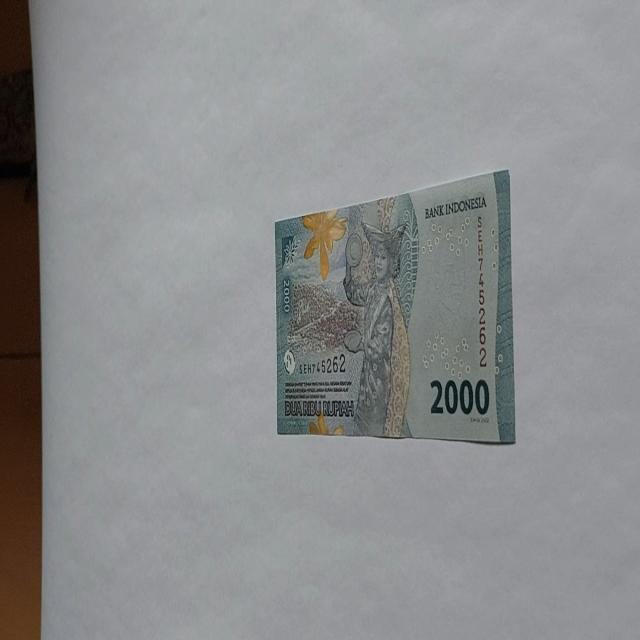dua ribu rupiah: (274, 167, 516, 445), (341, 215, 413, 438)
